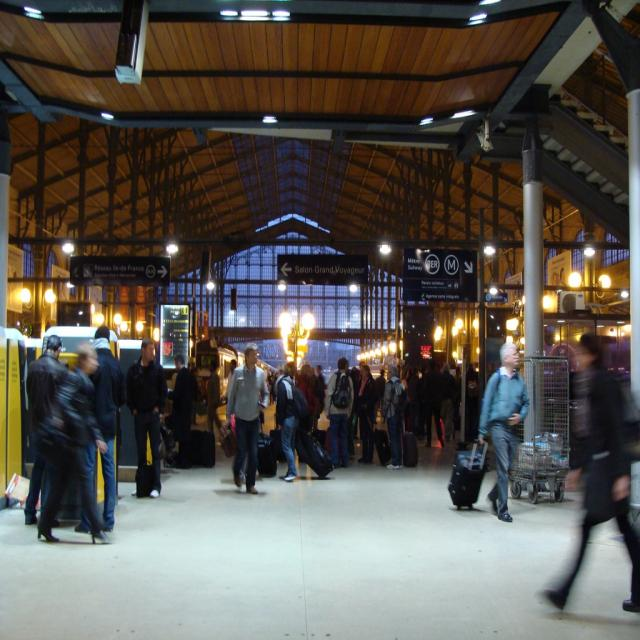body: (542, 331, 640, 615), (35, 342, 112, 546), (74, 323, 128, 536), (477, 339, 532, 523), (23, 334, 68, 527), (124, 337, 170, 499), (226, 342, 270, 496), (162, 352, 202, 472), (272, 362, 308, 482), (324, 356, 355, 471), (381, 364, 407, 472), (353, 362, 379, 466), (398, 362, 425, 442), (422, 358, 445, 448), (294, 364, 320, 434), (437, 359, 457, 445), (204, 358, 223, 434), (464, 362, 480, 442), (222, 358, 238, 422), (372, 368, 387, 425), (192, 365, 206, 423), (314, 363, 326, 412), (266, 359, 278, 404), (348, 360, 366, 383), (350, 414, 360, 441), (453, 366, 461, 395), (310, 366, 316, 387), (294, 367, 301, 384)
